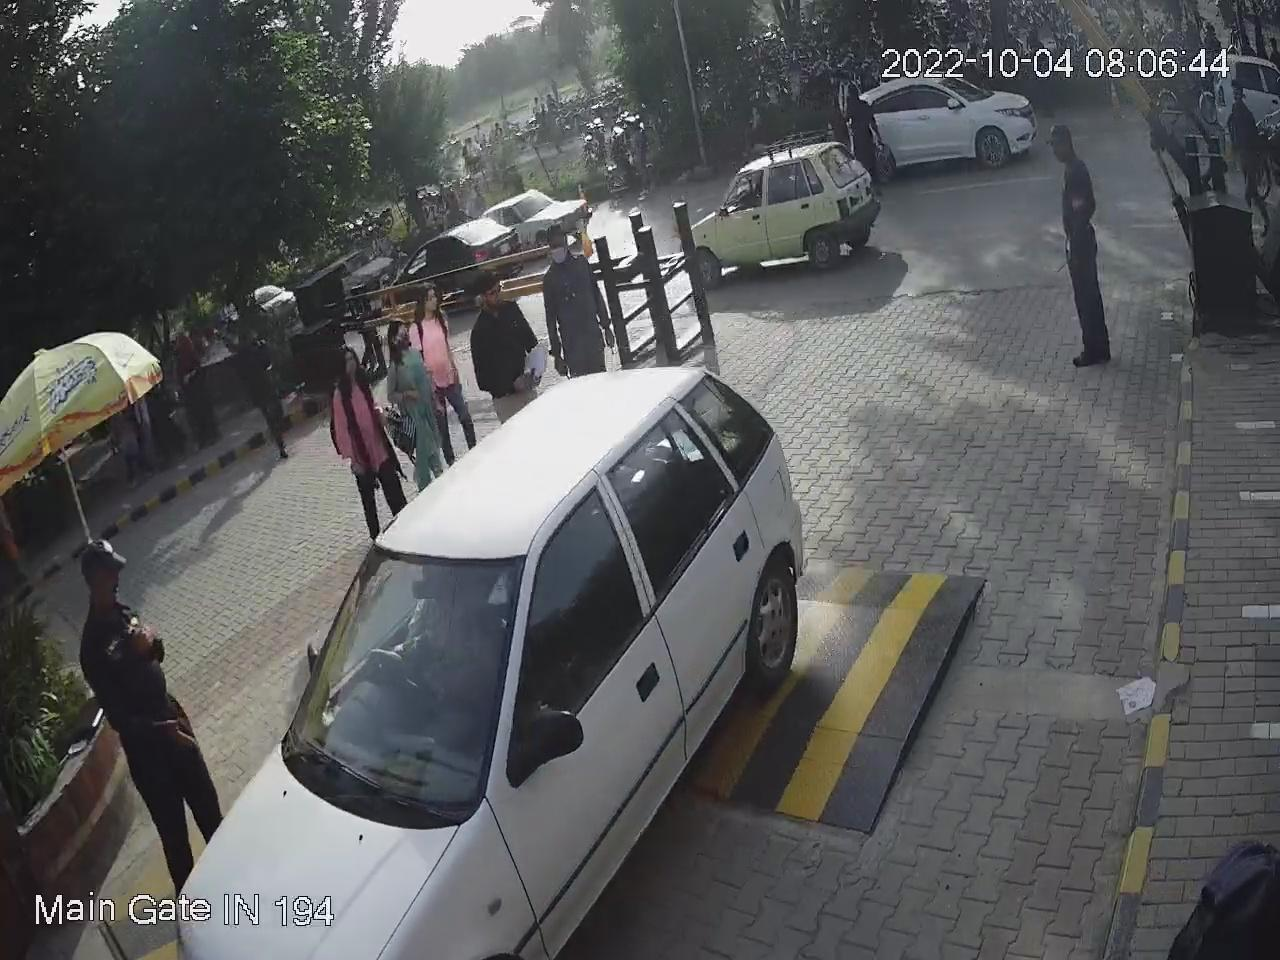windshield: (288, 537, 533, 823)
